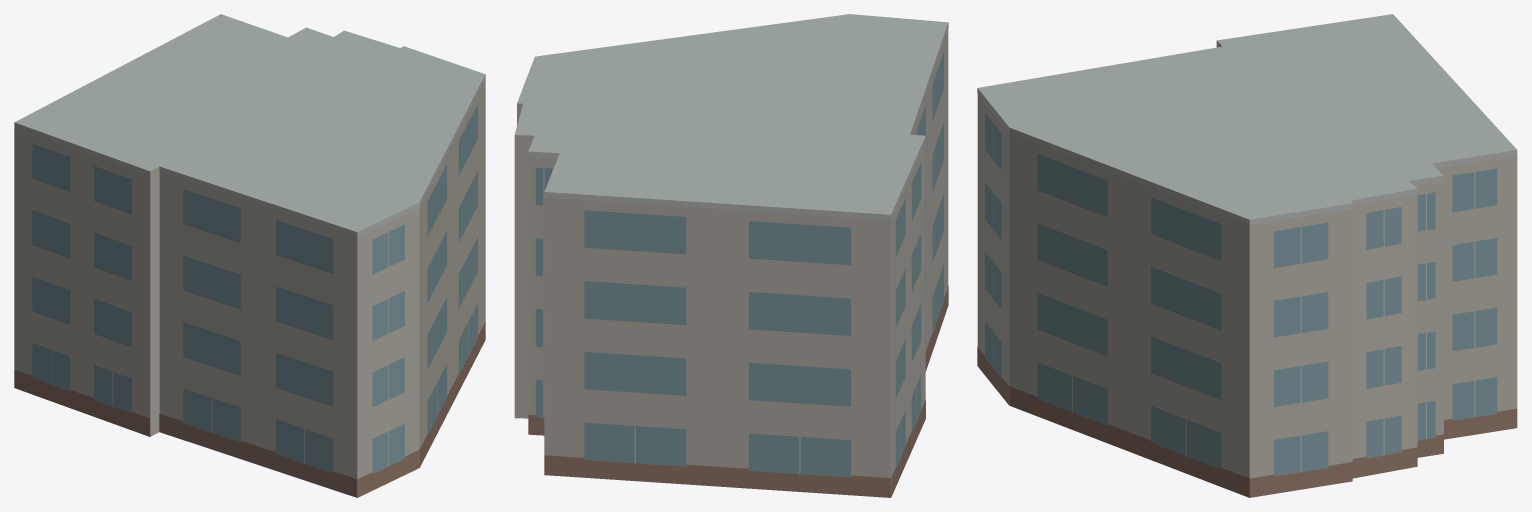
Rendered from survey-upis-32944360.glb.
3 views of the same model, side by side, from view 1: azimuth 30°, elevation 25°; view 2: azimuth 150°, elevation 25°; view 3: azimuth 270°, elevation 25° (orthographic). The views are drawn at different scales.
Visible parts, largest first — view 1: survey-upis-32944360.tmp; view 2: survey-upis-32944360.tmp; view 3: survey-upis-32944360.tmp.
Part boxes in pixels (x1,y1,x2,y2): survey-upis-32944360.tmp: (14,14,485,497); survey-upis-32944360.tmp: (514,14,948,497); survey-upis-32944360.tmp: (977,14,1517,497).
Bounding box in the file's own units: 19.68 × 12.4 × 21.82.
